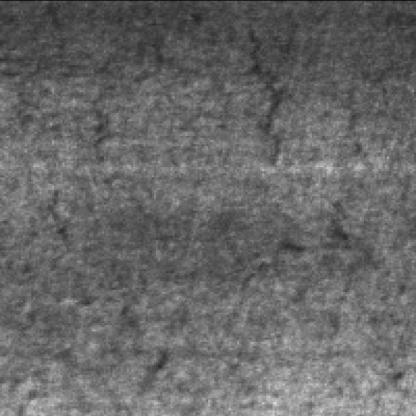crazing: (83, 6, 291, 166)
